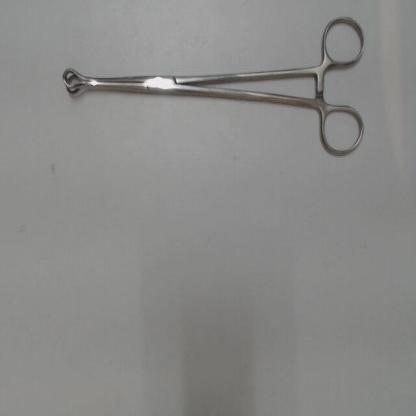8 Babcock Tissue Forceps: (56, 8, 368, 164)
